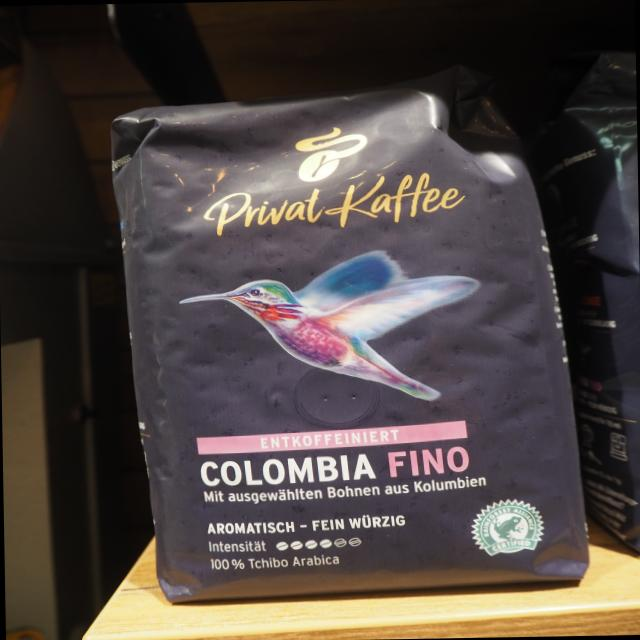C Fino Bohne: (101, 74, 596, 607)
